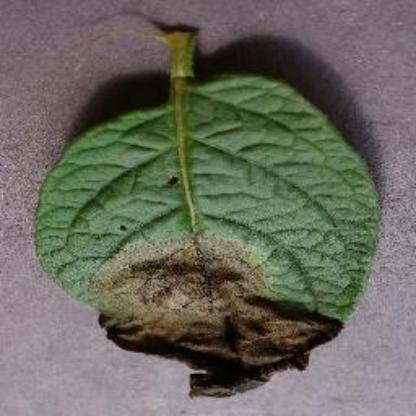Late-Blight: (29, 22, 387, 408)
